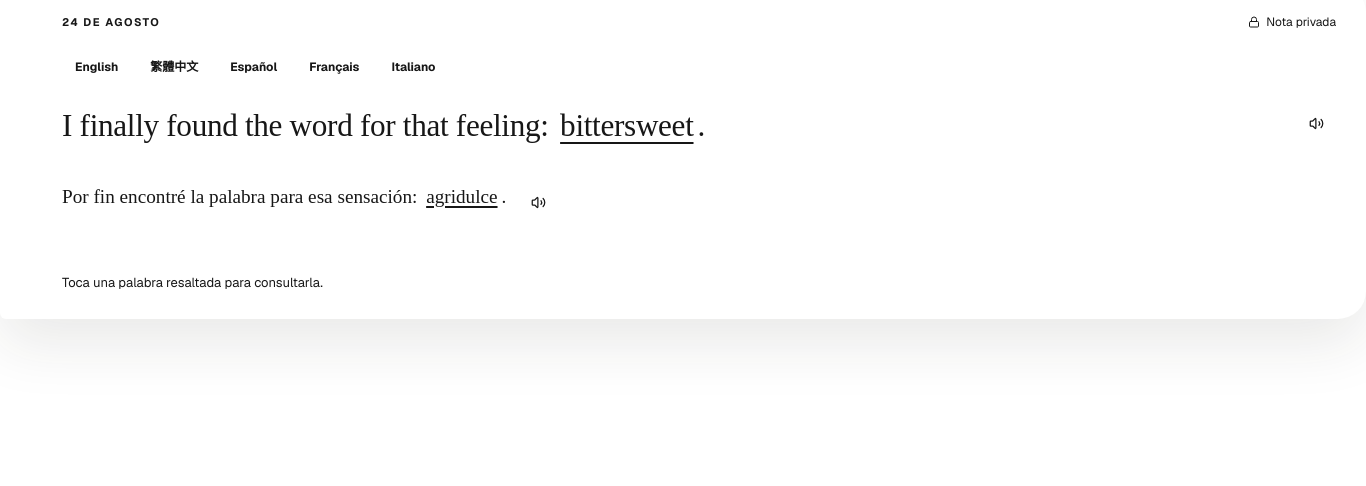
Keep: a bilingual note › closes the word and moves on when another language is chosen
# A Spanish reader opens on Spanish.
Click the button "agridulce" at point(462, 197), box [422,183,502,212]
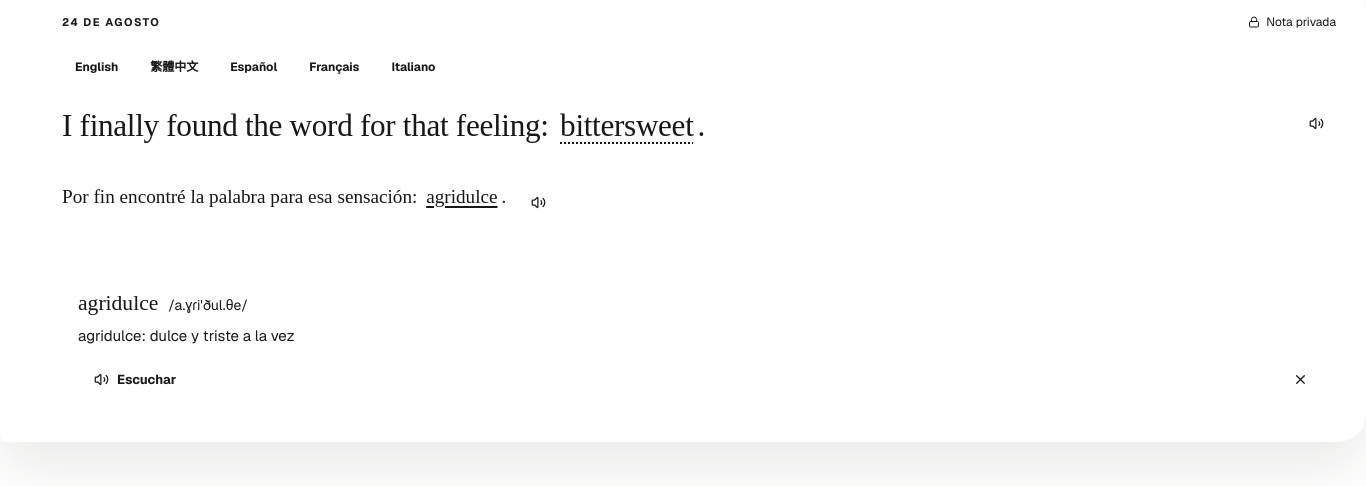
Now the text "agridulce: dulce y triste a la vez" is shown, box [78,326,294,345]
Click the button "Français" at point(334, 67), box [296,49,372,85]
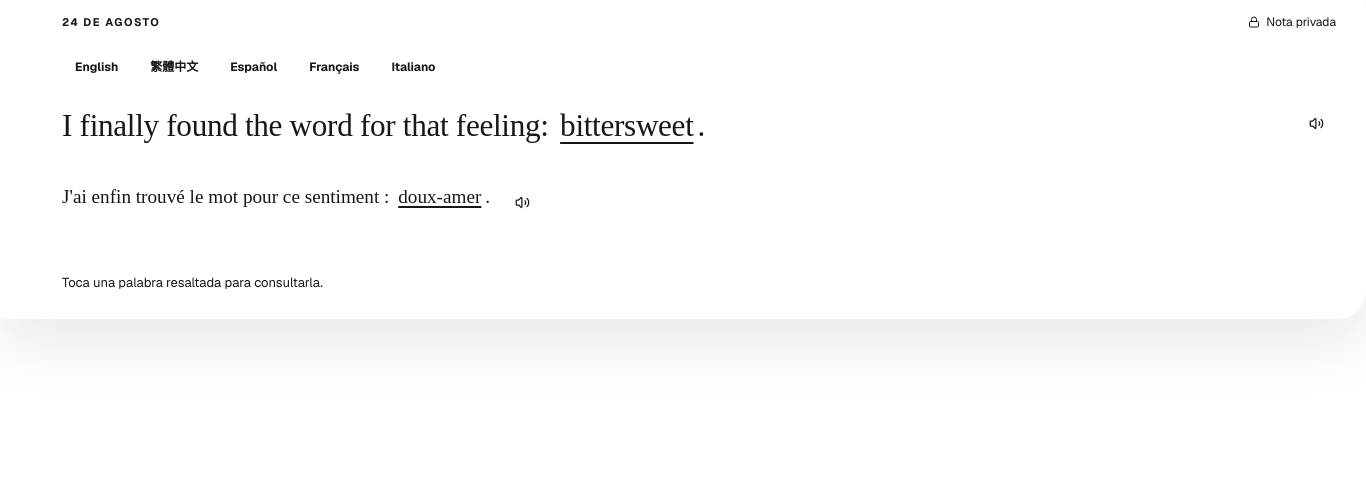
Now the text "agridulce: dulce y triste a la vez" is gone
Click the button "doux-amer" at point(440, 197), box [394,183,485,212]
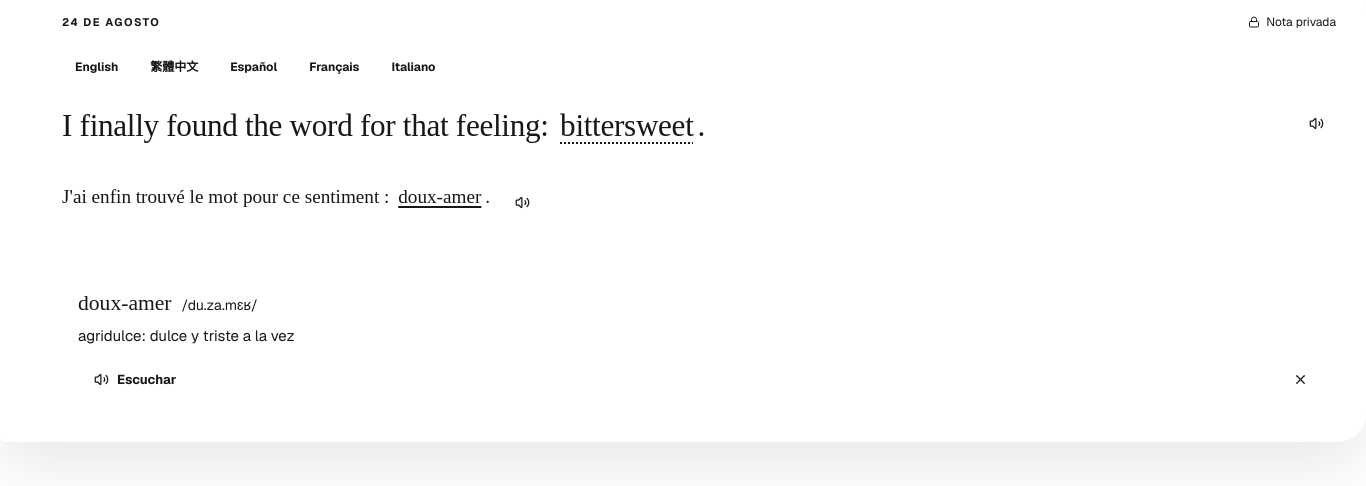
Now the text "/du.za.mɛʁ/" is shown, box [182,295,258,316]
